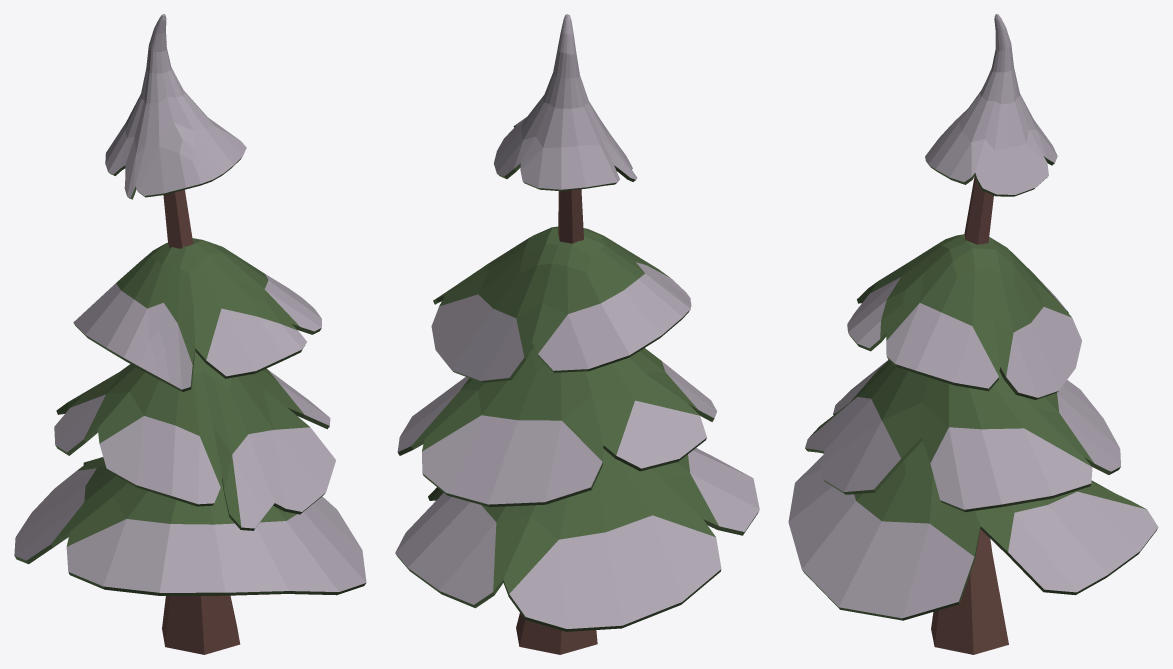
File: PineTree_Snow_2.glb
3 views of the same model, side by side, from view 1: azimuth 30°, elevation 25°; view 2: azimuth 150°, elevation 25°; view 3: azimuth 270°, elevation 25° (orthographic). The views are drawn at different scales.
Parts seen in each view (by area): view 1: PineTree_Snow_2_Cylinder.079; view 2: PineTree_Snow_2_Cylinder.079; view 3: PineTree_Snow_2_Cylinder.079.
Part boxes in pixels (box(x1,y1,x2,y2)): PineTree_Snow_2_Cylinder.079: box(14, 14, 366, 654); PineTree_Snow_2_Cylinder.079: box(395, 14, 759, 654); PineTree_Snow_2_Cylinder.079: box(788, 14, 1158, 654).
Size of the model in its own units: 1.8 by 3.56 by 1.96.
